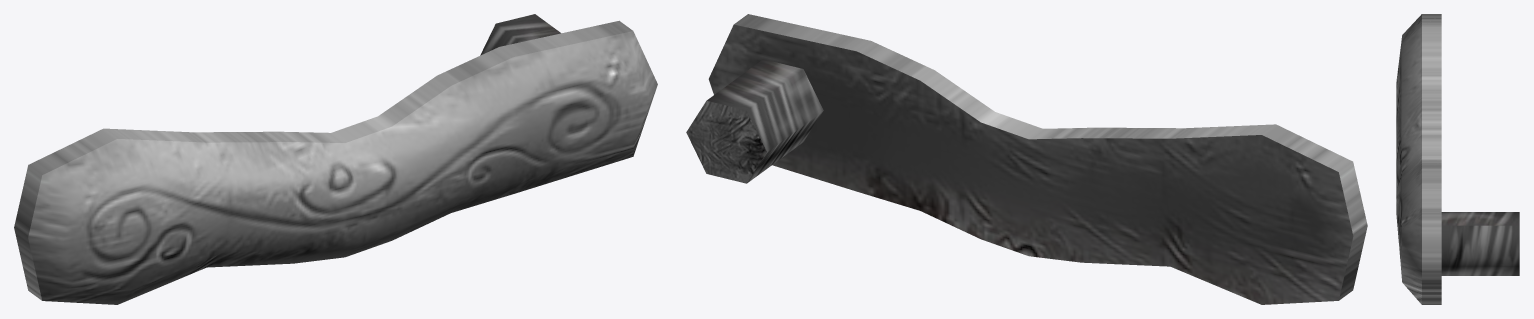
File: doorHandle.fbx
3 renders of one model, left to right at view 1: azimuth 30°, elevation 25°; view 2: azimuth 150°, elevation 25°; view 3: azimuth 270°, elevation 25°, orthographic. The views are drawn at different scales.
Visible parts, largest first — view 1: poignee; view 2: poignee; view 3: poignee.
Part boxes in pixels (box(x1,y1,x2,y2)): poignee: box(14, 14, 657, 304); poignee: box(686, 14, 1367, 304); poignee: box(1396, 14, 1519, 304).
Size of the model in its own units: 18.61 by 4.92 by 4.49.
